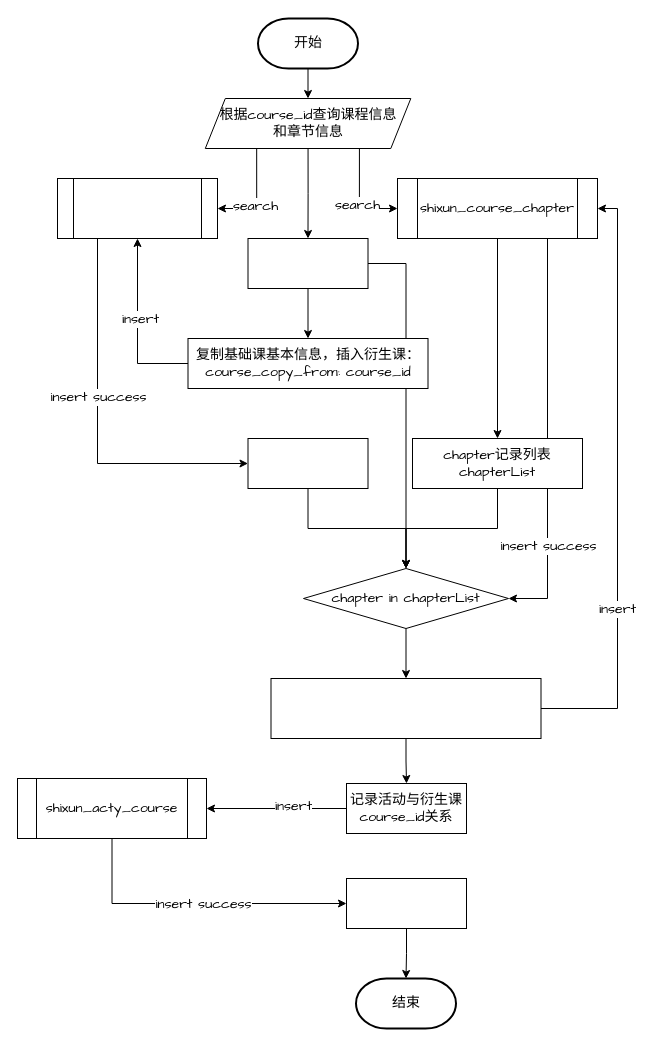
The diagram is 653 pixels wide and 1046 high, and some of its shapes have lost their labels. The centre of each missing label's shape, as x and y in pixels:
shixun_course: (x=137, y=208)
复制 chapter基础信息 course_id: 衍生课course_id chapter_copy_from: 原始chapter_id: (x=405, y=708)
开启事务tx: (x=307, y=263)
提交事务tx.commit(): (x=406, y=903)
衍生课course_id: (x=307, y=463)
